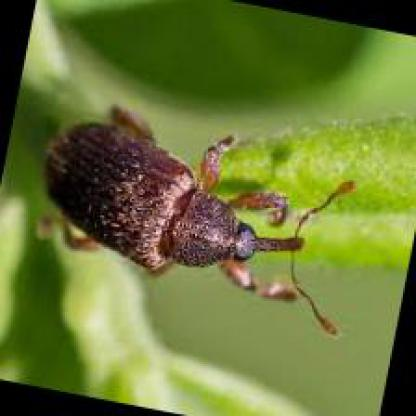ash weevil: (44, 107, 306, 275)
